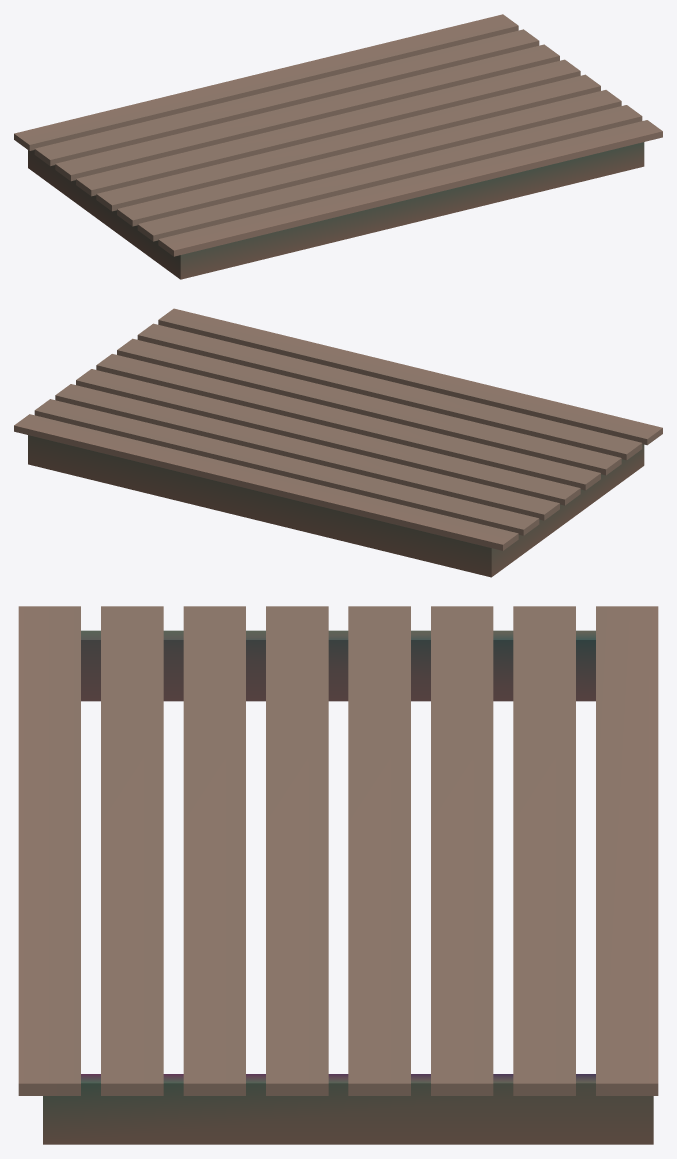
The picture shows the model from 3 angles, top to bottom: view 1: azimuth 30°, elevation 25°; view 2: azimuth 150°, elevation 25°; view 3: azimuth 270°, elevation 25°; orthographic projection. The views are drawn at different scales.
Parts seen in each view (by area): view 1: perimeter, board.001, board.007, board.002, board.006, board.003, board.004, board.005, board.008; view 2: perimeter, board.008, board.002, board.007, board.003, board.001, board.005, board.006, board.004; view 3: perimeter, board.001, board.002, board.003, board.004, board.005, board.006, board.007, board.008.
Boxes of the visible parts, x1=… form: perimeter: x1=28, y1=142, x2=644, y2=279; board.001: x1=158, y1=120, x2=662, y2=256; board.007: x1=34, y1=29, x2=539, y2=166; board.002: x1=137, y1=105, x2=642, y2=241; board.006: x1=55, y1=44, x2=559, y2=181; board.003: x1=117, y1=90, x2=621, y2=226; board.004: x1=96, y1=74, x2=600, y2=211; board.005: x1=76, y1=59, x2=580, y2=196; board.008: x1=14, y1=14, x2=518, y2=150; perimeter: x1=28, y1=435, x2=644, y2=577; board.008: x1=14, y1=414, x2=518, y2=550; board.002: x1=137, y1=323, x2=642, y2=460; board.007: x1=34, y1=399, x2=539, y2=535; board.003: x1=117, y1=338, x2=621, y2=475; board.001: x1=158, y1=308, x2=662, y2=445; board.005: x1=76, y1=369, x2=580, y2=505; board.006: x1=55, y1=384, x2=559, y2=520; board.004: x1=96, y1=354, x2=600, y2=490; perimeter: x1=43, y1=630, x2=653, y2=1144; board.001: x1=18, y1=606, x2=80, y2=1095; board.002: x1=101, y1=606, x2=163, y2=1095; board.003: x1=183, y1=606, x2=245, y2=1095; board.004: x1=266, y1=606, x2=328, y2=1095; board.005: x1=348, y1=606, x2=410, y2=1095; board.006: x1=431, y1=606, x2=493, y2=1095; board.007: x1=513, y1=606, x2=575, y2=1095; board.008: x1=596, y1=606, x2=658, y2=1095.
Bounding box in the file's own units: 3 × 0.2147 × 1.7.
